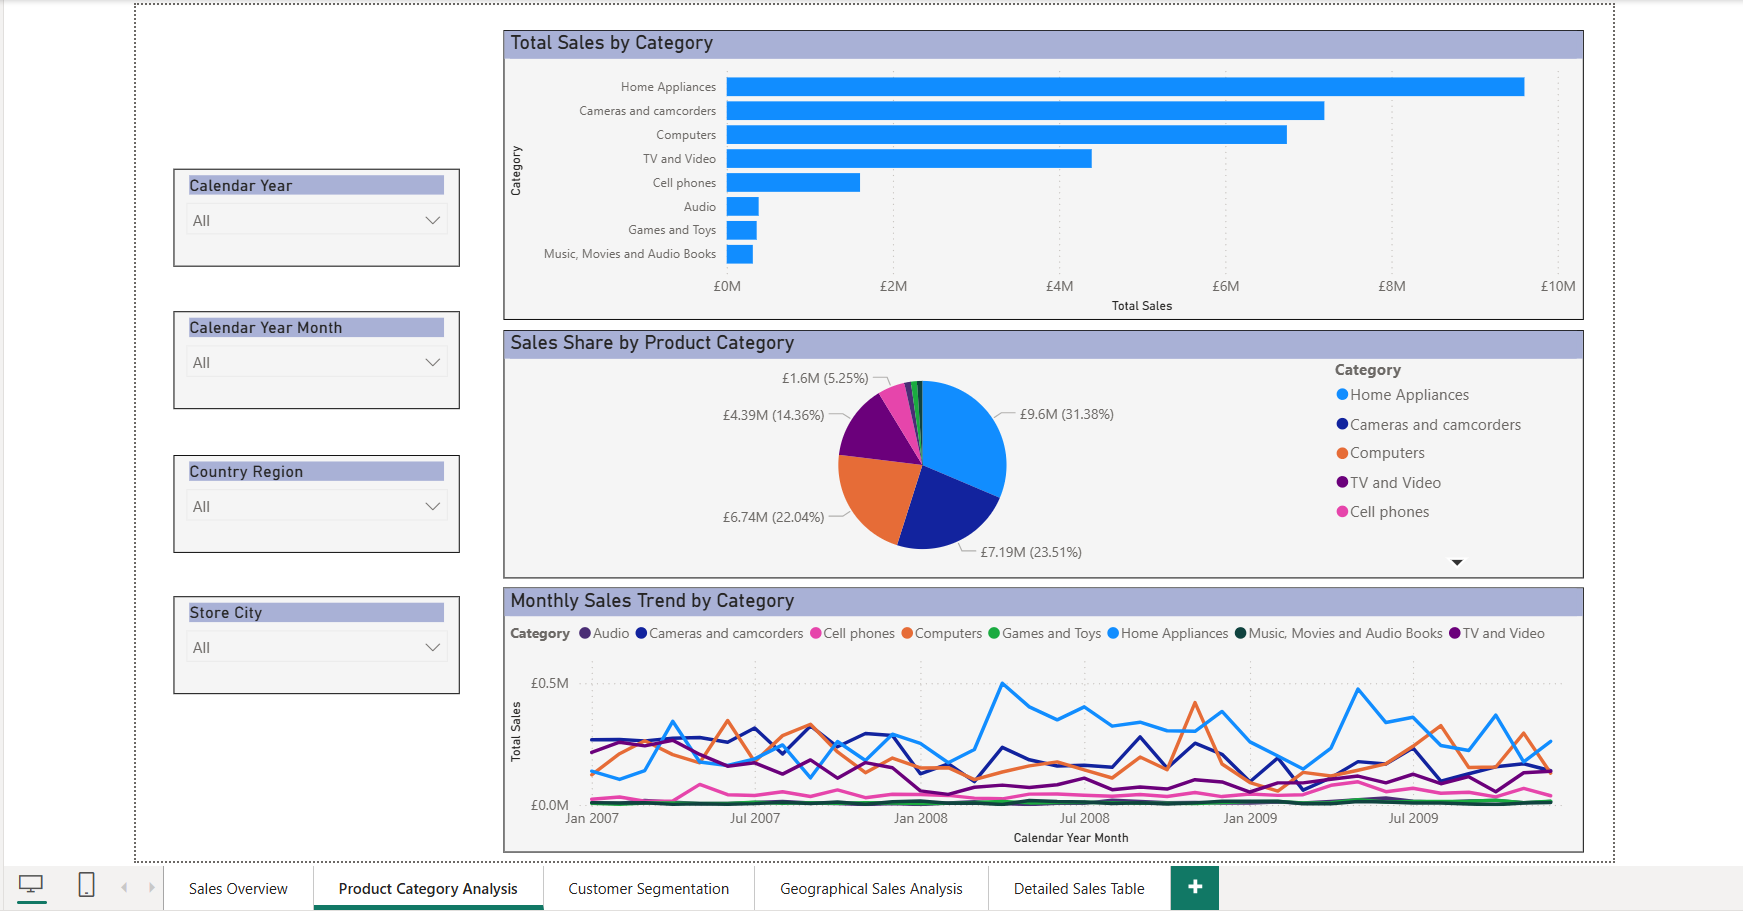

The dashboard page shown, as its layout file describes it:
{"tool":"powerbi","page":{"name":"Product Category Analysis","canvas":[1280,720],"ordinal":1},"visuals":[{"type":"barChart","fields":{"Y":["01.Measures.Total Sales"],"Category":["Product.Category"]},"box":[318.4,0,935.7,251.3],"z":0},{"type":"pieChart","title":"Sales Share by Product Category","fields":{"Y":["01.Measures.Total Sales"],"Category":["Product.Category"]},"box":[318.4,259.9,935.7,215.5],"z":1000},{"type":"lineChart","title":"Monthly Sales Trend by Category","fields":{"Category":["Date.Calendar Year Month"],"Y":["01.Measures.Total Sales"],"Series":["Product.Category"]},"box":[318.4,483,935.7,229.6],"z":2000},{"type":"slicer","fields":{"Values":["Date.Calendar Year"]},"box":[32.5,120.2,248,84.5],"z":3000},{"type":"slicer","fields":{"Values":["Date.Calendar Year Month"]},"box":[32.5,244,248,84.5],"z":4000},{"type":"slicer","fields":{"Values":["Customer.CountryRegion"]},"box":[32.5,368.2,248,84.5],"z":5000},{"type":"slicer","fields":{"Values":["Store.City"]},"box":[32.5,490.6,248,84.5],"z":6000}]}

Visuals, with their boxes on the page's 1280x720 design canvas (x1, y1, x2, y2). These are canvas units, not pixel positions in the 1743x911 screenshot, which may show the page scaled, cropped or inside an application window:
barChart - 01.Measures.Total Sales x Product.Category: 318/0/1254/251
"Sales Share by Product Category" pieChart: 318/260/1254/475
"Monthly Sales Trend by Category" lineChart: 318/483/1254/713
slicer - Date.Calendar Year: 32/120/280/205
slicer - Date.Calendar Year Month: 32/244/280/328
slicer - Customer.CountryRegion: 32/368/280/453
slicer - Store.City: 32/491/280/575
